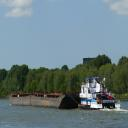tugboat: (78, 77, 123, 114)
